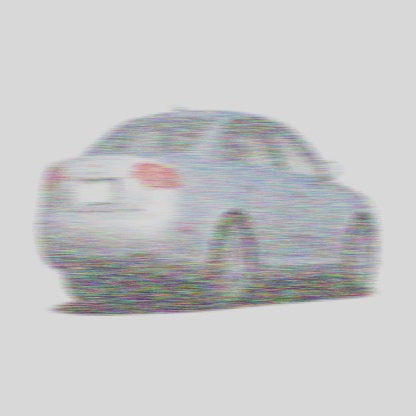Vehicle: (39, 104, 378, 310)
